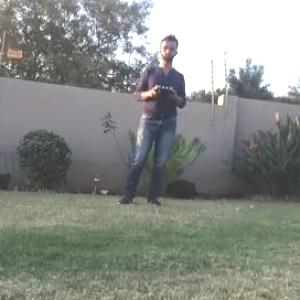follow: (115, 25, 191, 206)
